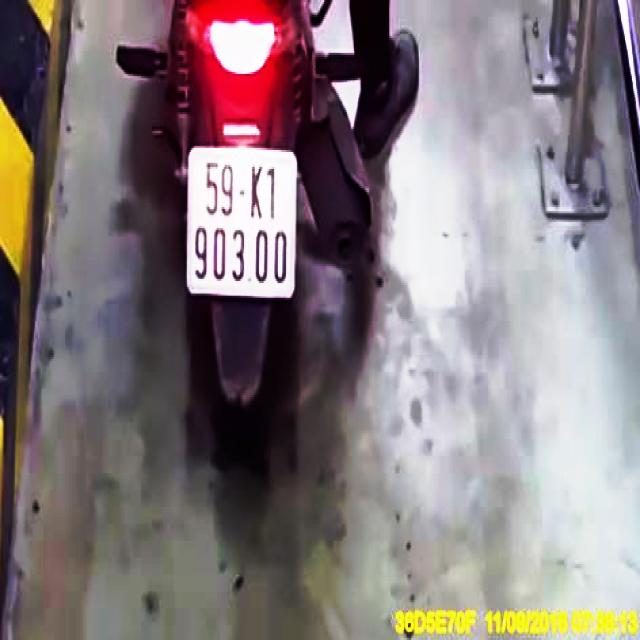license_plate: (187, 146, 293, 296)
